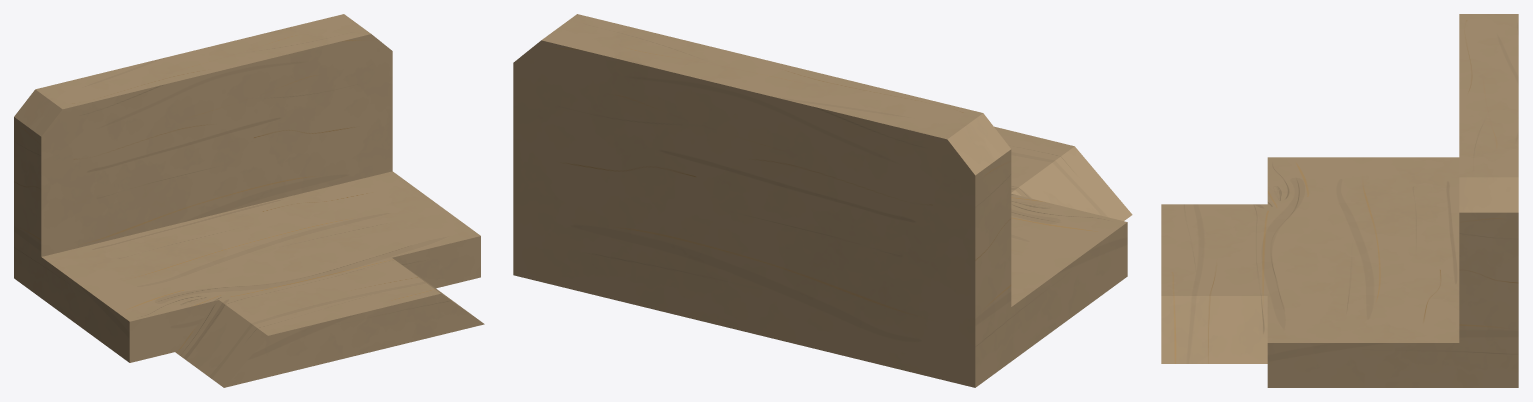
The model's file is judgeStand.glb.
3 views of the same model, side by side, from view 1: azimuth 30°, elevation 25°; view 2: azimuth 150°, elevation 25°; view 3: azimuth 270°, elevation 25° (orthographic). The views are drawn at different scales.
Visible parts, largest first — view 1: Cube.001; view 2: Cube.001; view 3: Cube.001.
Part boxes in pixels (x1,y1,x2,y2): Cube.001: (14, 14, 484, 387); Cube.001: (513, 14, 1132, 387); Cube.001: (1161, 14, 1518, 387).
Bounding box in the file's own units: 2 × 1 × 1.63.
Materials: 1 (1 with a texture image).
